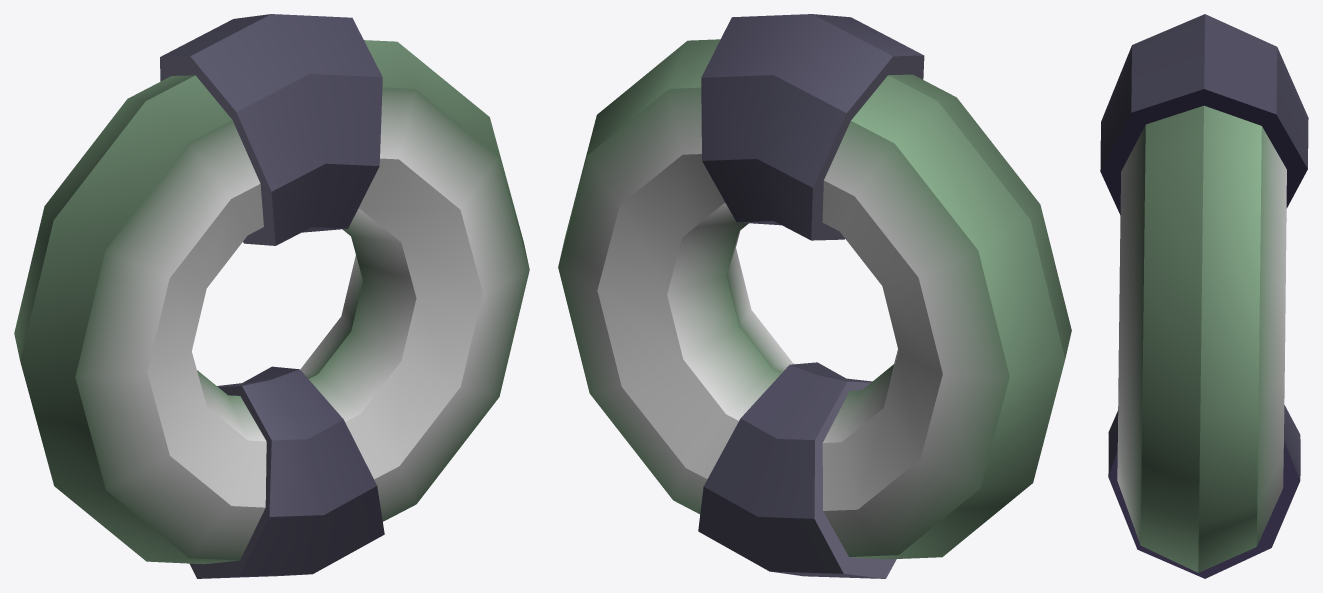
File: RookiesTube.fbx
3 renders of one model, left to right at view 1: azimuth 30°, elevation 25°; view 2: azimuth 150°, elevation 25°; view 3: azimuth 270°, elevation 25°, orthographic. The views are drawn at different scales.
Visible parts, largest first — view 1: RookiesTube; view 2: RookiesTube; view 3: RookiesTube.
Boxes of the visible parts, <box> form: RookiesTube: <box>14,14,529,578</box>; RookiesTube: <box>558,14,1071,578</box>; RookiesTube: <box>1100,14,1308,578</box>.
Size of the model in its own units: 102 by 110 by 38.93.
